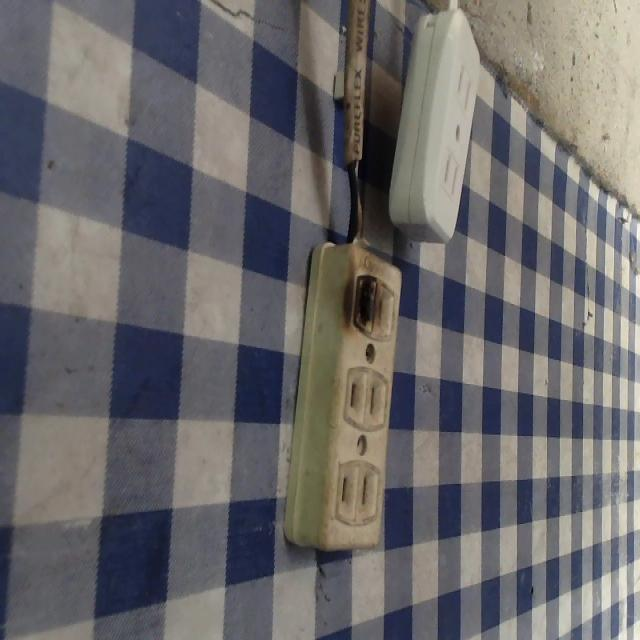-: (347, 267, 380, 341)
